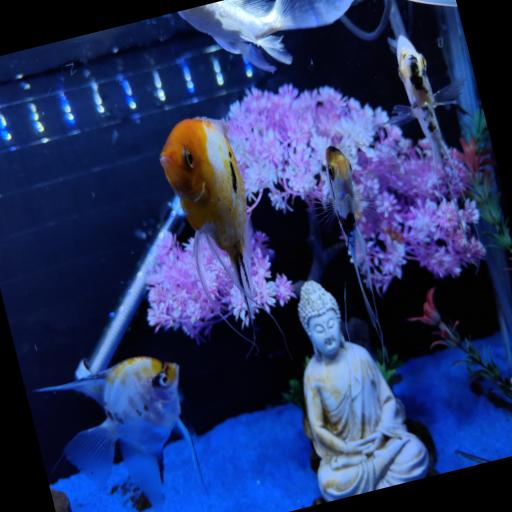Fish: (37, 357, 199, 511), (160, 118, 254, 321), (391, 35, 464, 230), (180, 0, 354, 72), (326, 146, 384, 348)
